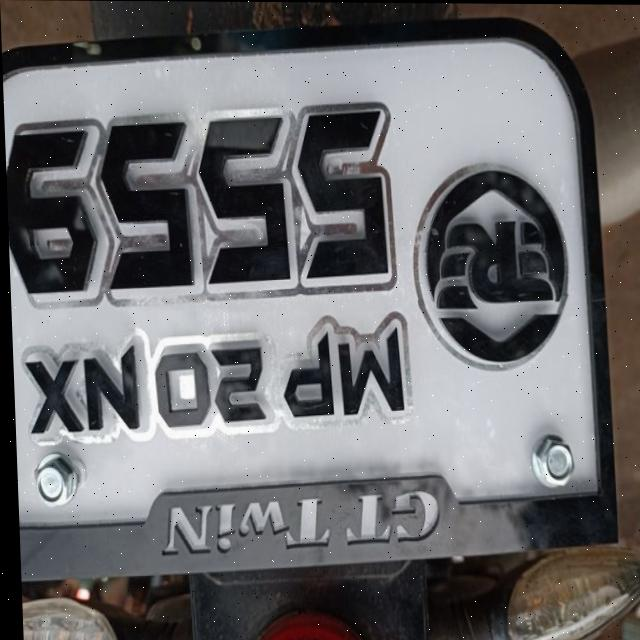plate: (0, 16, 617, 586)
